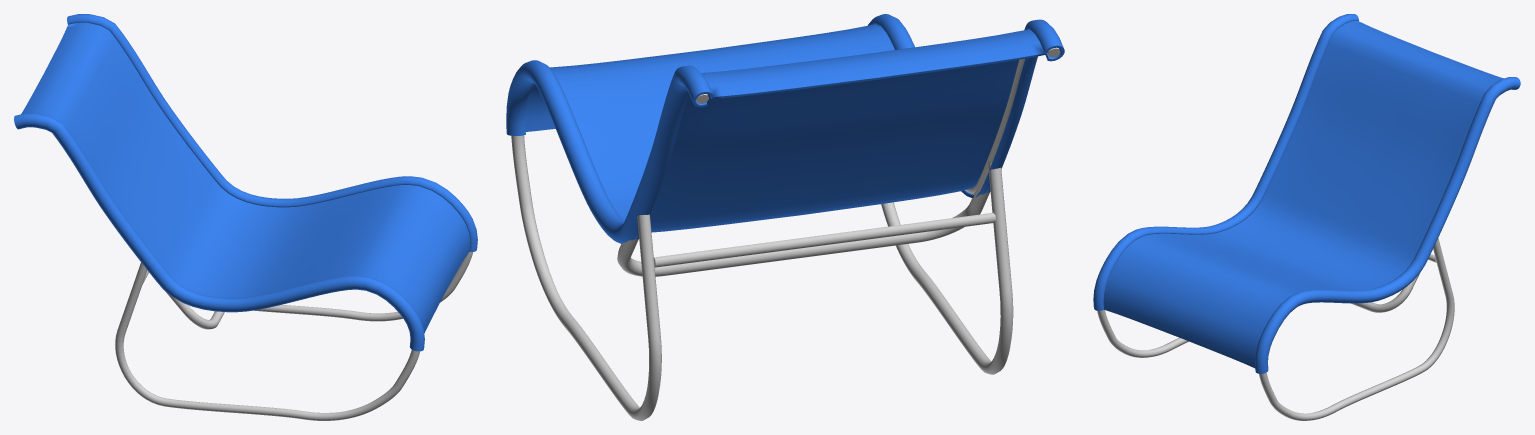
The model's file is IKEA-Emmabo_Rocking_Chair-3D.obj.
3 renders of one model, left to right at view 1: azimuth 30°, elevation 25°; view 2: azimuth 150°, elevation 25°; view 3: azimuth 270°, elevation 25°, orthographic. The views are drawn at different scales.
Visible parts, largest first — view 1: Object01, Loft02; view 2: Object01, Loft02; view 3: Object01, Loft02.
Boxes of the visible parts, left/top/right/bottom form: Object01: left=14, top=14, right=477, bottom=351; Loft02: left=115, top=251, right=472, bottom=420; Object01: left=506, top=14, right=1064, bottom=243; Loft02: left=511, top=47, right=1060, bottom=420; Object01: left=1093, top=14, right=1520, bottom=373; Loft02: left=1097, top=238, right=1454, bottom=420.
Size of the model in its own units: 1839 by 1190 by 1803.
